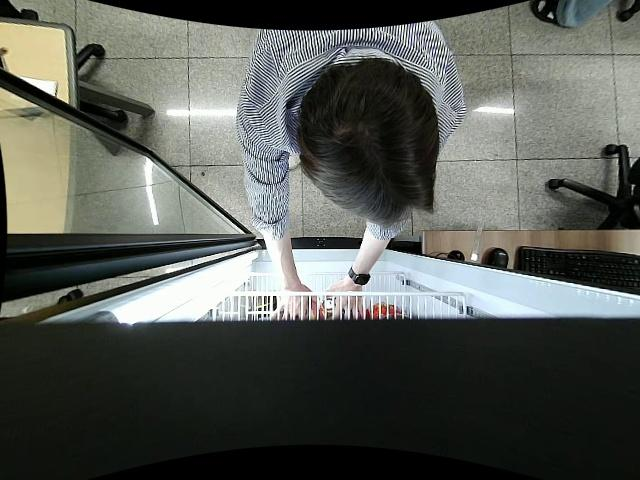00_hand: (275, 276, 310, 319), (332, 283, 367, 320)
